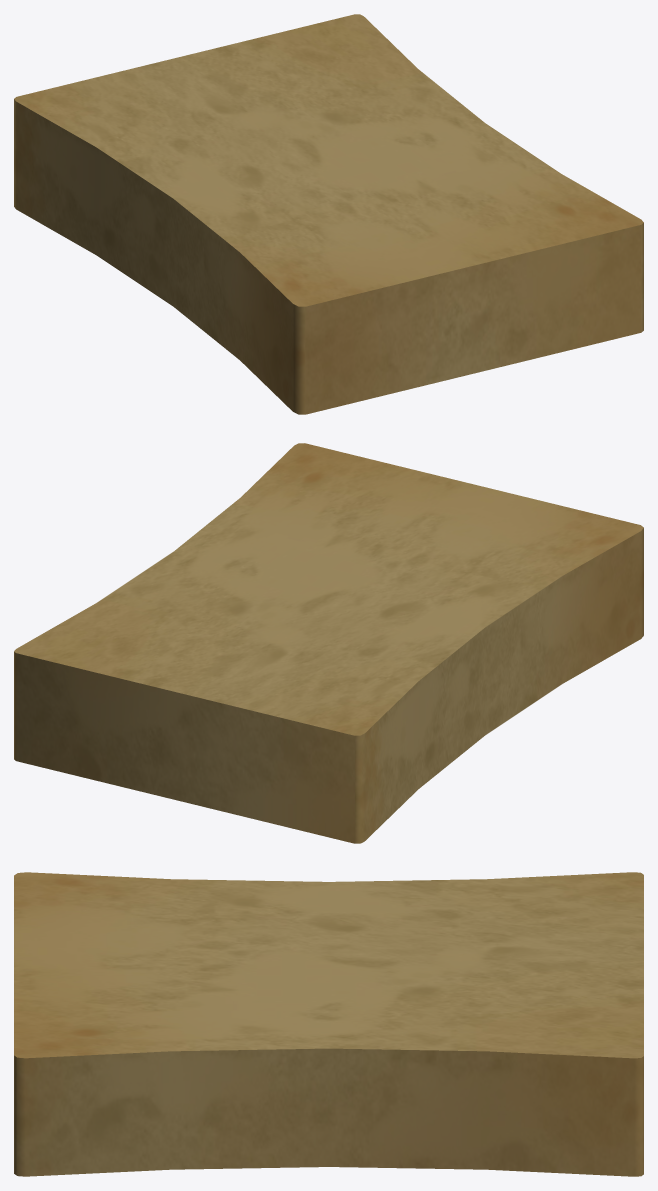
Rendered from Sponge.fbx.
The picture shows the model from 3 angles, top to bottom: view 1: azimuth 30°, elevation 25°; view 2: azimuth 150°, elevation 25°; view 3: azimuth 270°, elevation 25°; orthographic projection. The views are drawn at different scales.
Parts seen in each view (by area): view 1: Sponge; view 2: Sponge; view 3: Sponge.
Part boxes in pixels (bbox=[...]): Sponge: bbox=[14, 14, 643, 414]; Sponge: bbox=[14, 443, 643, 843]; Sponge: bbox=[14, 872, 643, 1176].
Bounding box in the file's own units: 15.79 × 4.68 × 22.58.
1 material, 1 textured.
